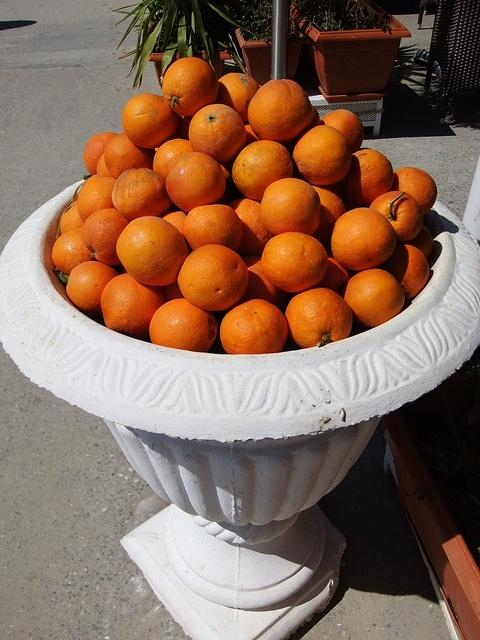orange: (116, 216, 190, 286), (178, 244, 249, 312), (101, 272, 166, 340), (248, 79, 313, 145), (331, 208, 397, 272), (284, 288, 354, 348), (261, 232, 328, 293), (220, 298, 288, 354), (149, 298, 218, 352), (342, 268, 404, 328), (232, 140, 293, 200), (291, 126, 352, 186), (166, 152, 226, 212), (188, 104, 246, 164), (259, 178, 320, 235), (162, 56, 219, 116), (122, 93, 178, 148), (340, 148, 394, 205), (112, 169, 172, 220), (182, 204, 243, 252), (82, 208, 132, 266), (370, 191, 424, 244), (227, 198, 274, 258), (382, 244, 430, 300), (66, 260, 118, 310), (236, 256, 283, 310), (103, 132, 156, 179), (310, 184, 346, 253), (390, 167, 437, 216), (216, 73, 260, 122), (51, 227, 96, 274), (76, 177, 118, 224), (320, 109, 364, 153), (314, 254, 356, 296), (153, 138, 195, 178), (84, 132, 118, 176), (404, 224, 434, 262), (60, 200, 84, 234), (160, 211, 188, 234), (158, 282, 186, 302), (243, 122, 261, 150), (97, 153, 113, 177)
